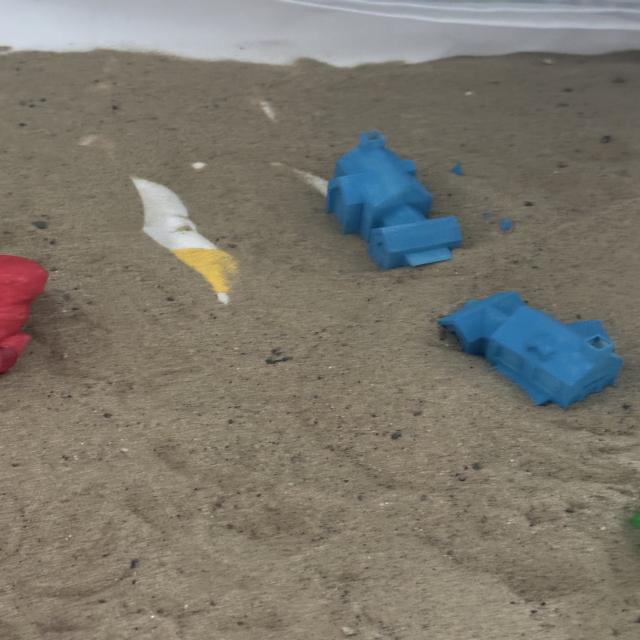fire: (0, 252, 50, 374)
house: (322, 130, 529, 276), (436, 288, 627, 414)
